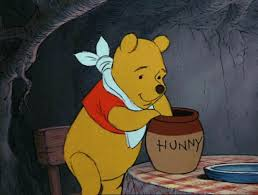Winnie: (92, 28, 174, 130)
